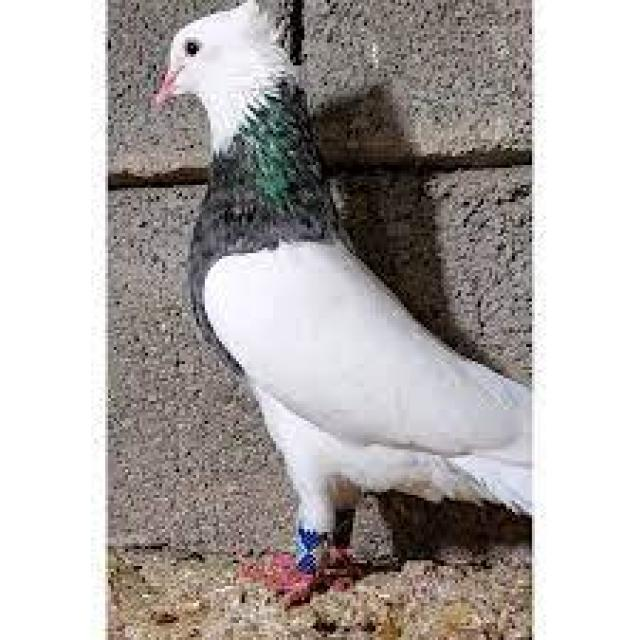bird: (140, 1, 587, 604)
